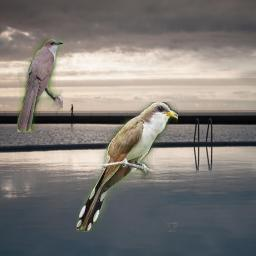Cuckoo: (76, 102, 178, 232), (17, 39, 63, 132)
